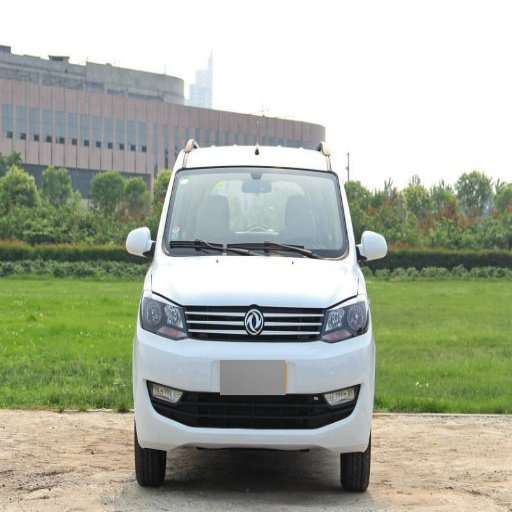front_bumper: (138, 306, 376, 453)
front_right_light: (140, 291, 190, 338)
hood: (151, 255, 358, 308)
